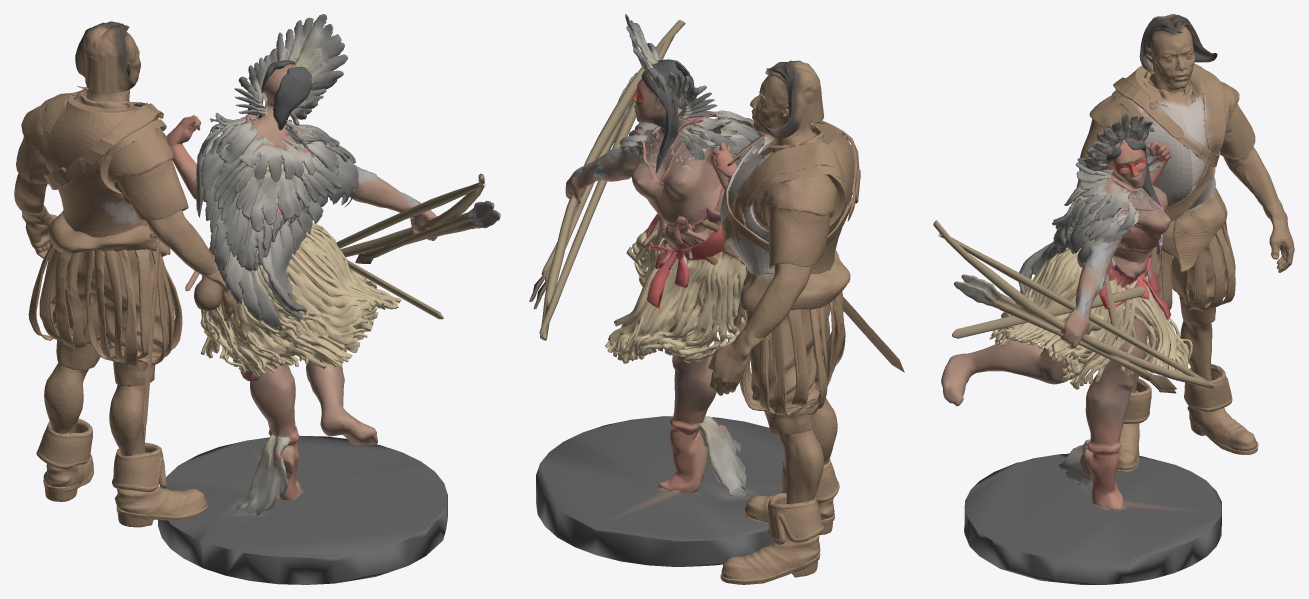
3 renders of one model, left to right at view 1: azimuth 30°, elevation 25°; view 2: azimuth 150°, elevation 25°; view 3: azimuth 270°, elevation 25°, orthographic. The views are drawn at different scales.
Bounding box in the file's own units: 3.27 × 4.69 × 3.44.
